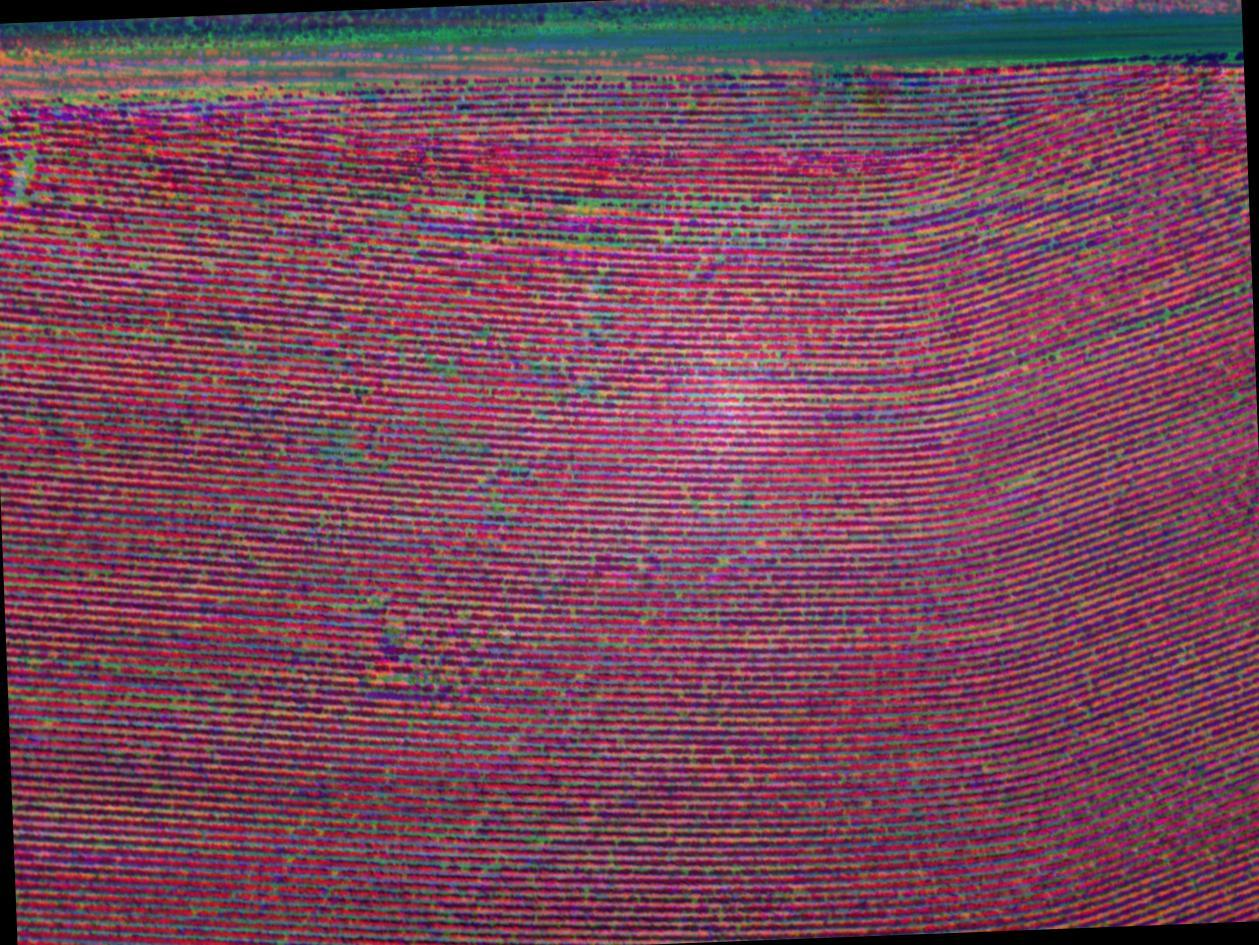dc: (4, 148, 47, 209), (410, 186, 487, 219), (570, 190, 642, 215), (323, 425, 361, 468), (660, 226, 686, 256)
